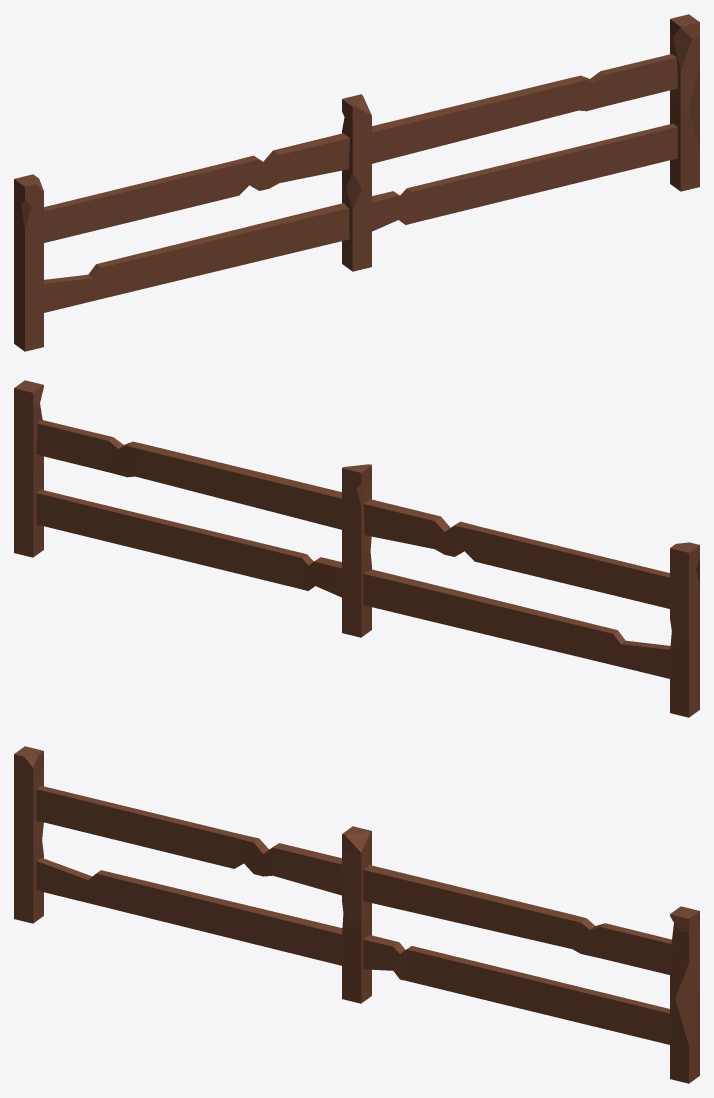
The model's file is fence.fbx.
3 renders of one model, top to bottom at view 1: azimuth 30°, elevation 25°; view 2: azimuth 150°, elevation 25°; view 3: azimuth 330°, elevation 25°, orthographic.
Parts seen in each view (by area): view 1: polycube; view 2: polycube; view 3: polycube.
Boxes of the visible parts, x1,y1,x2,y2 form: polycube: (14,14,699,351); polycube: (14,380,699,717); polycube: (14,746,699,1083).
Bounding box in the file's own units: 100 × 23.28 × 3.45.
